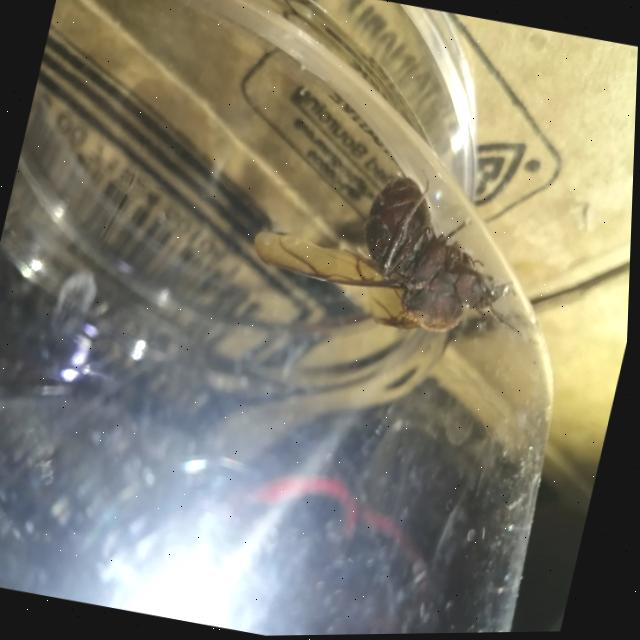Alive-Female-Alate: (242, 148, 556, 354)
